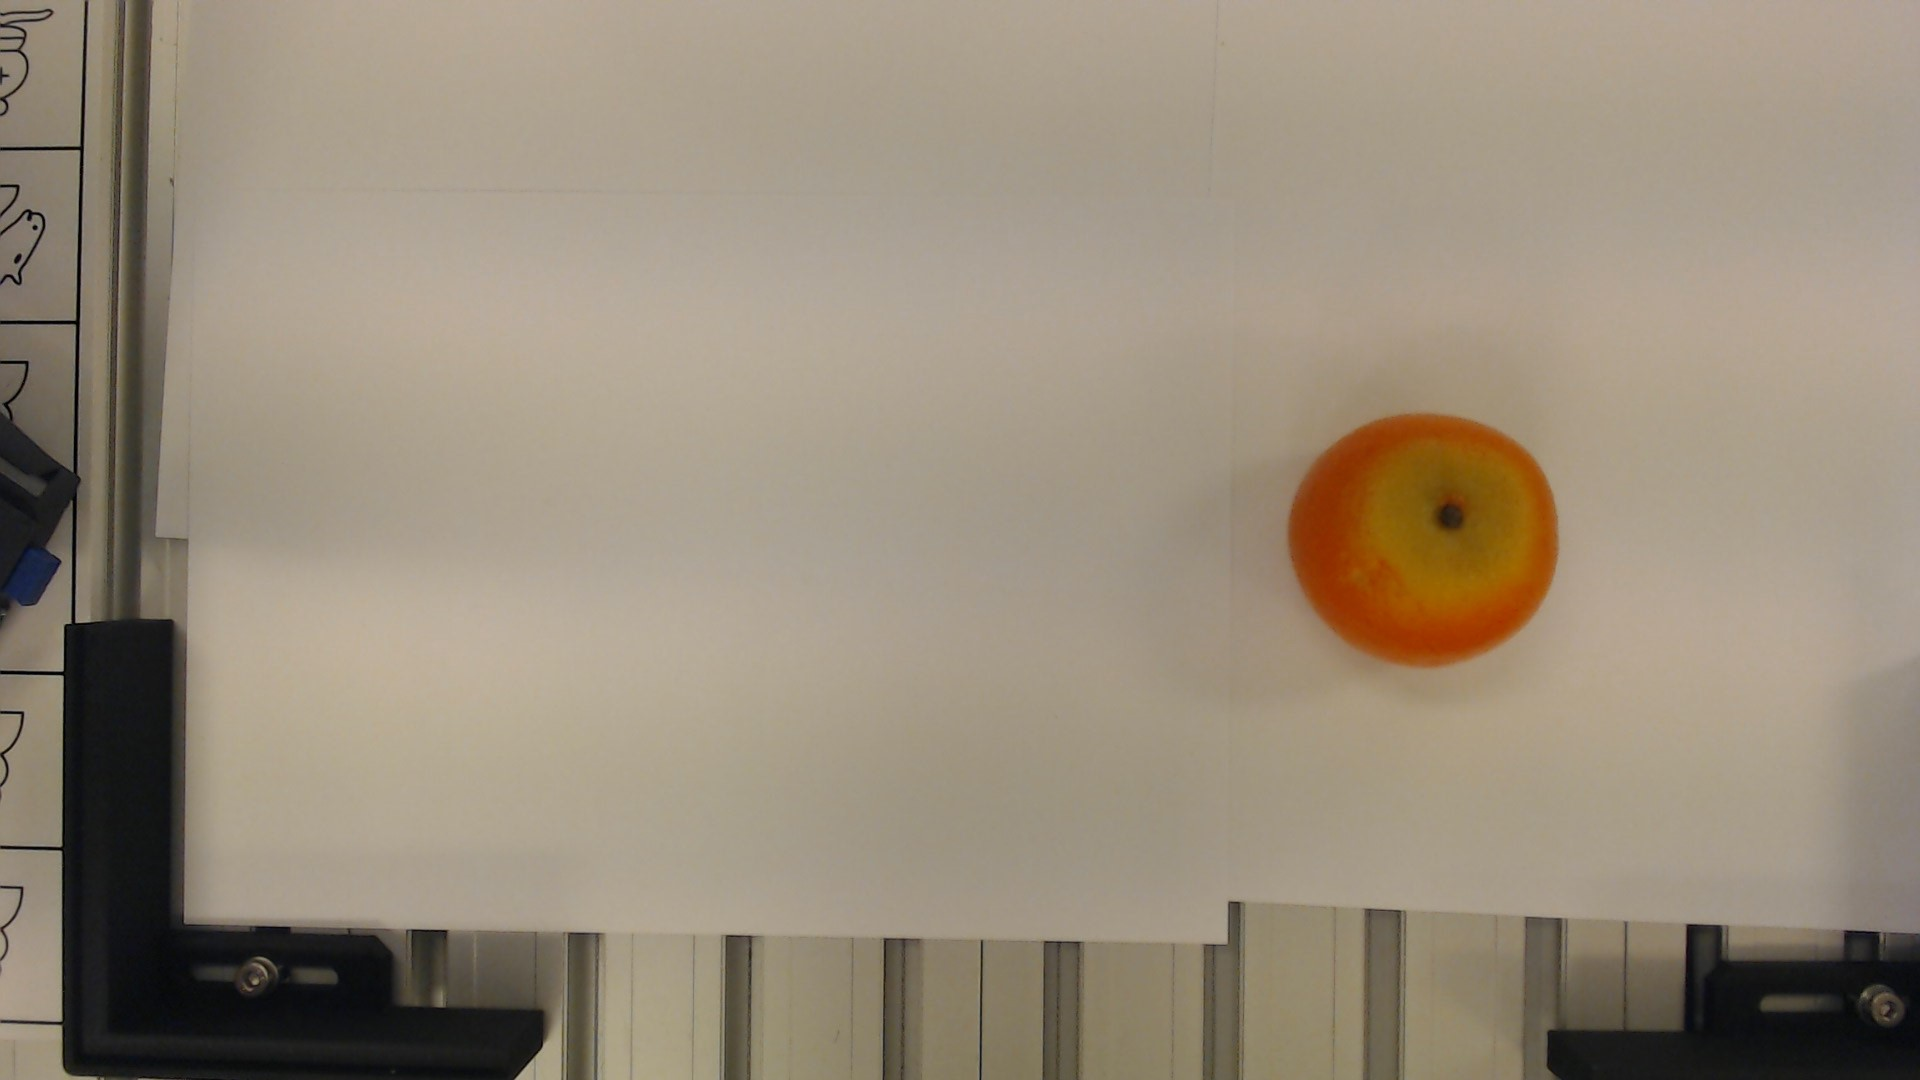Mandarin: (1284, 405, 1560, 667)
